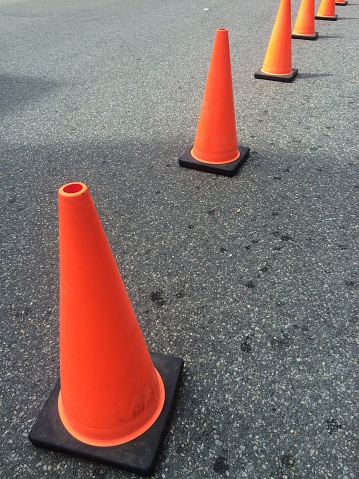trafficcone: (28, 181, 184, 475), (179, 27, 249, 177), (254, 1, 299, 83), (292, 1, 318, 41), (313, 1, 338, 21), (336, 1, 347, 6)
